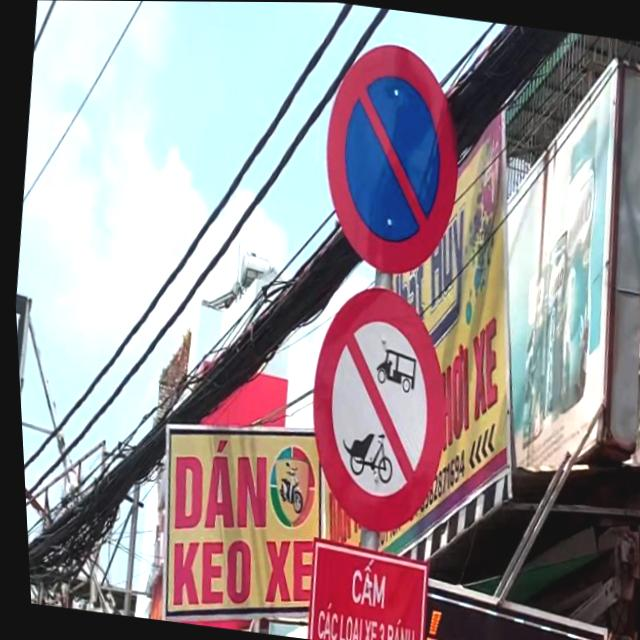Cam do xe: (304, 34, 475, 282)
